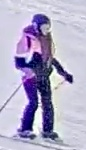skier: (1, 13, 77, 150)
